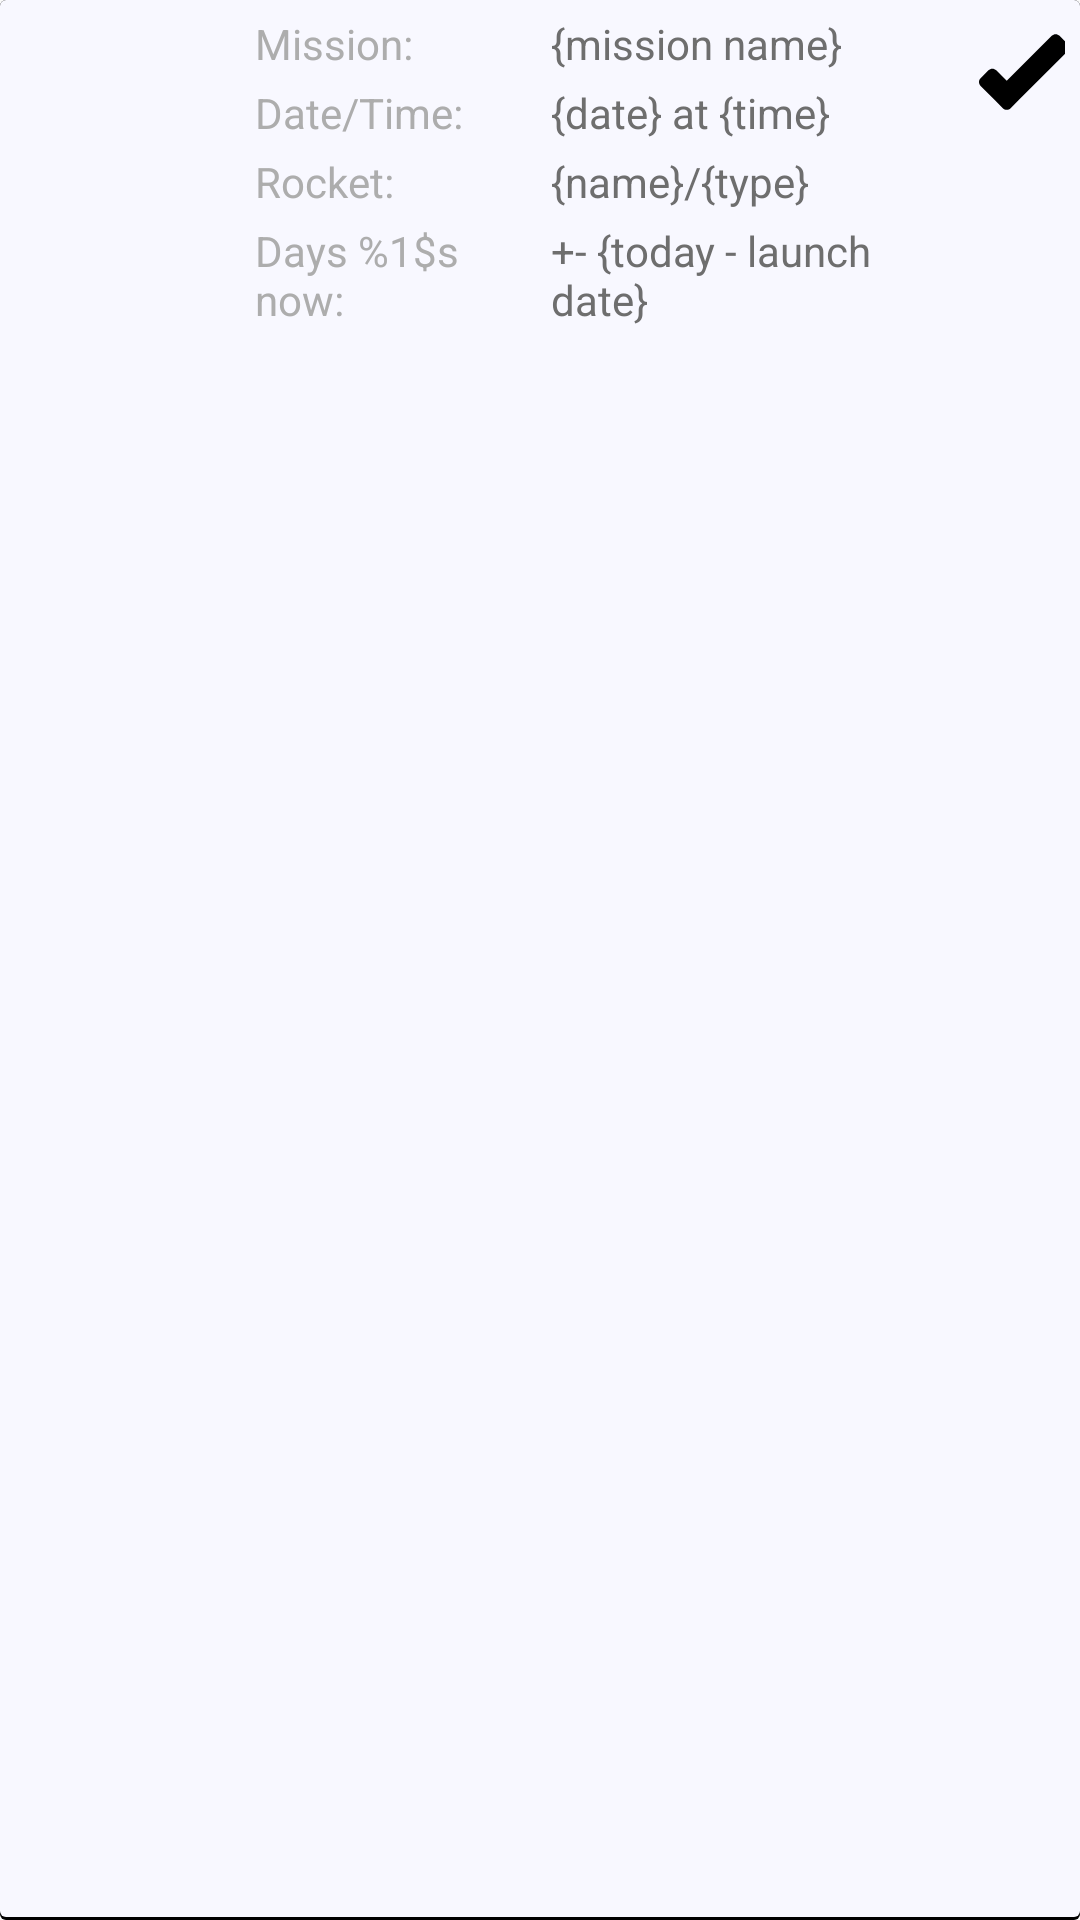

Point at icon controls on the screen. Image size 1080 x 1920, points as (x,y).
check mark: (1022,72)
